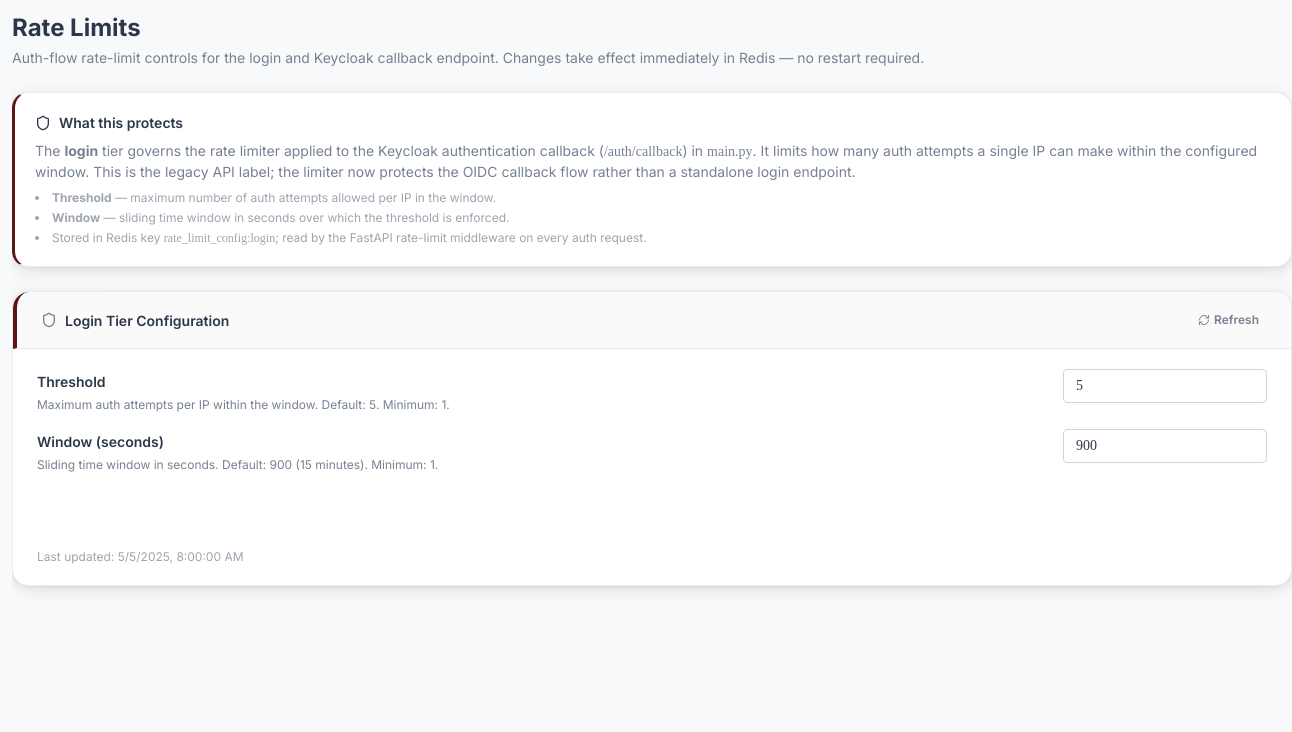
Test: RateLimitsPage — save › shows validation error for zero threshold
The width and height of the screenshot is (1292, 732).
Replace the text in the 1st number field showing "5" with "0": (1165, 386) [1063,369,1267,403]
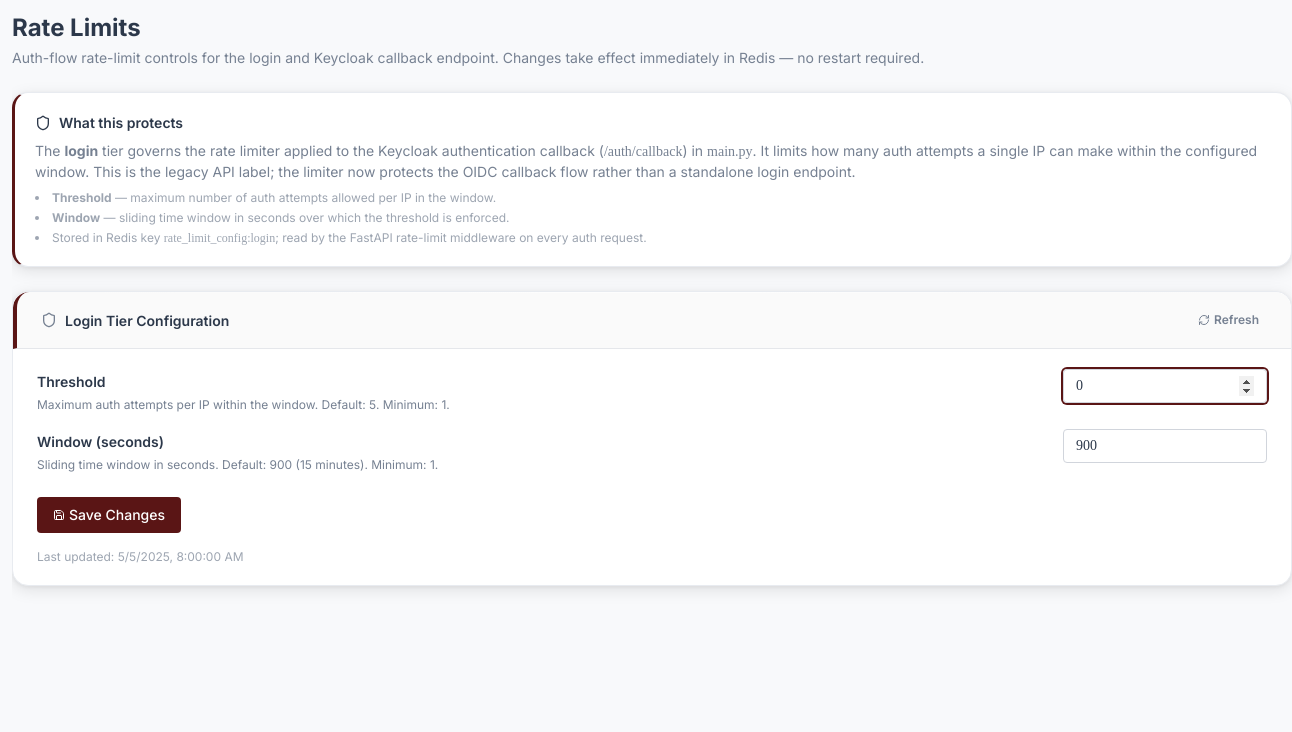
Click the button "Save Changes": (109, 515) [37,497,181,533]
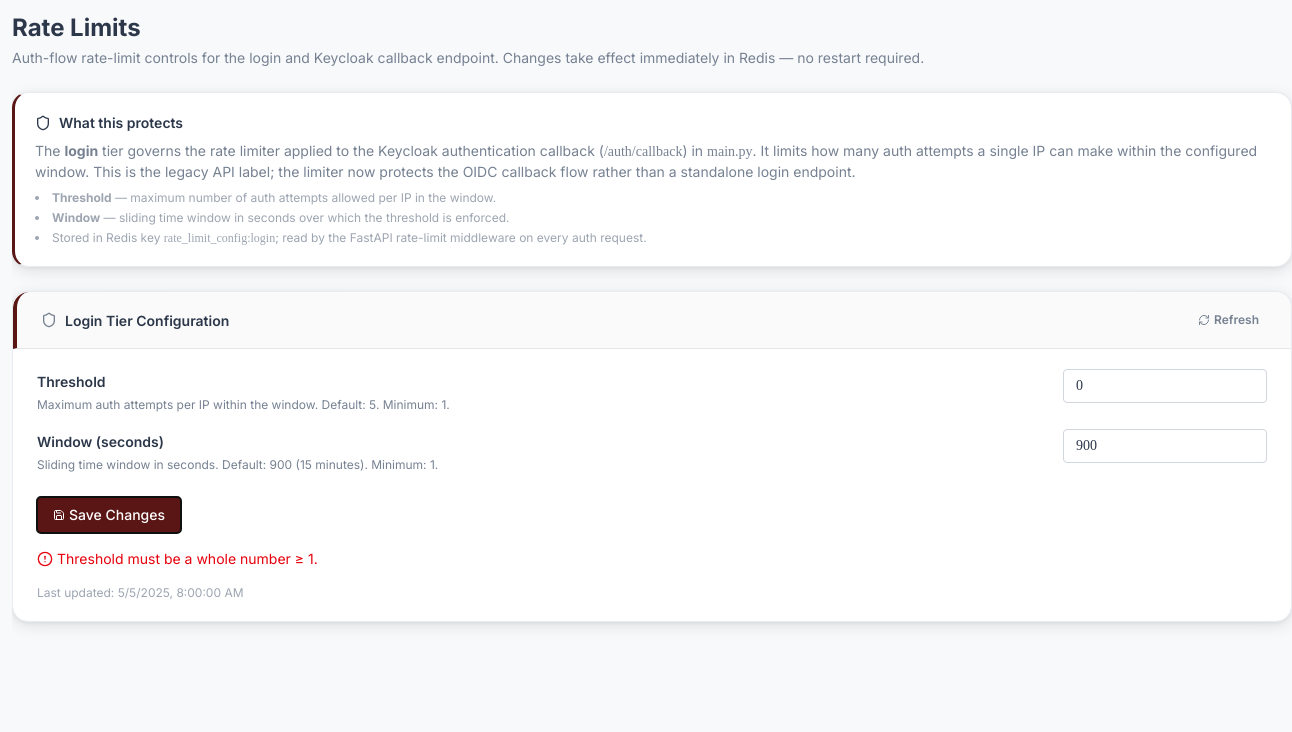
Check: the text "Threshold must be a whole number ≥ 1." is shown, box [37,550,318,567]
